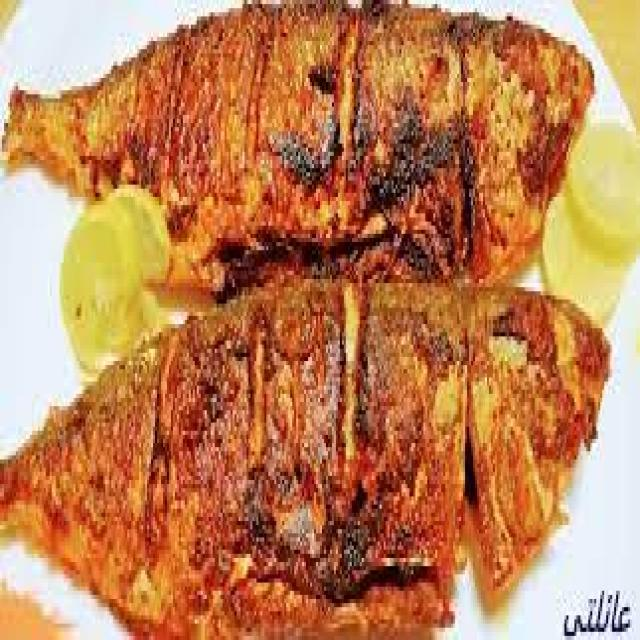Peixe: (0, 271, 612, 636), (2, 0, 596, 283)
